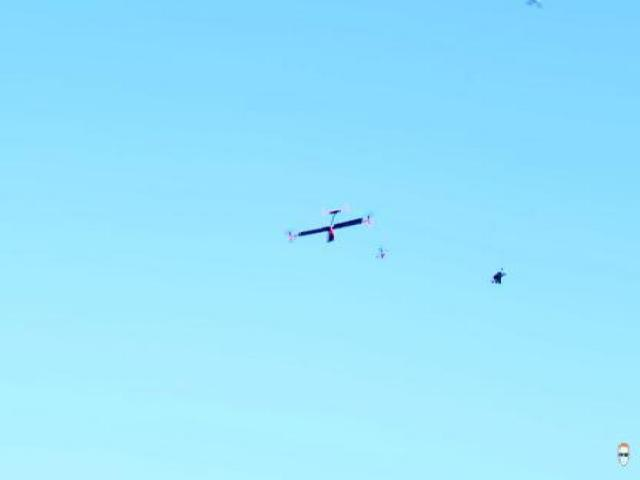uav: (285, 203, 378, 254)
